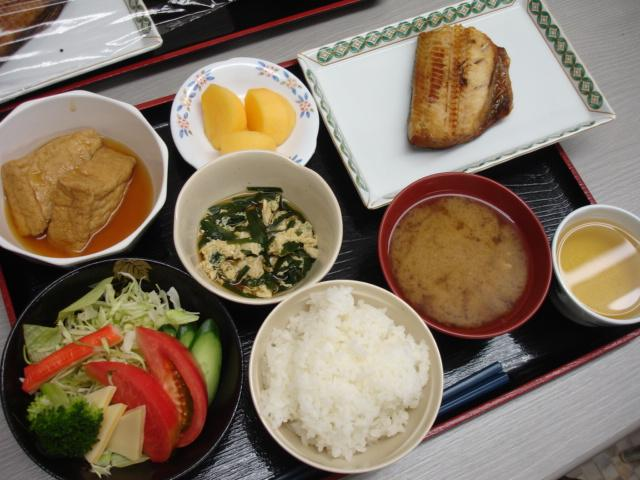plate: (0, 259, 242, 479), (0, 90, 167, 265), (170, 57, 318, 168)
rice: (260, 286, 429, 460)
